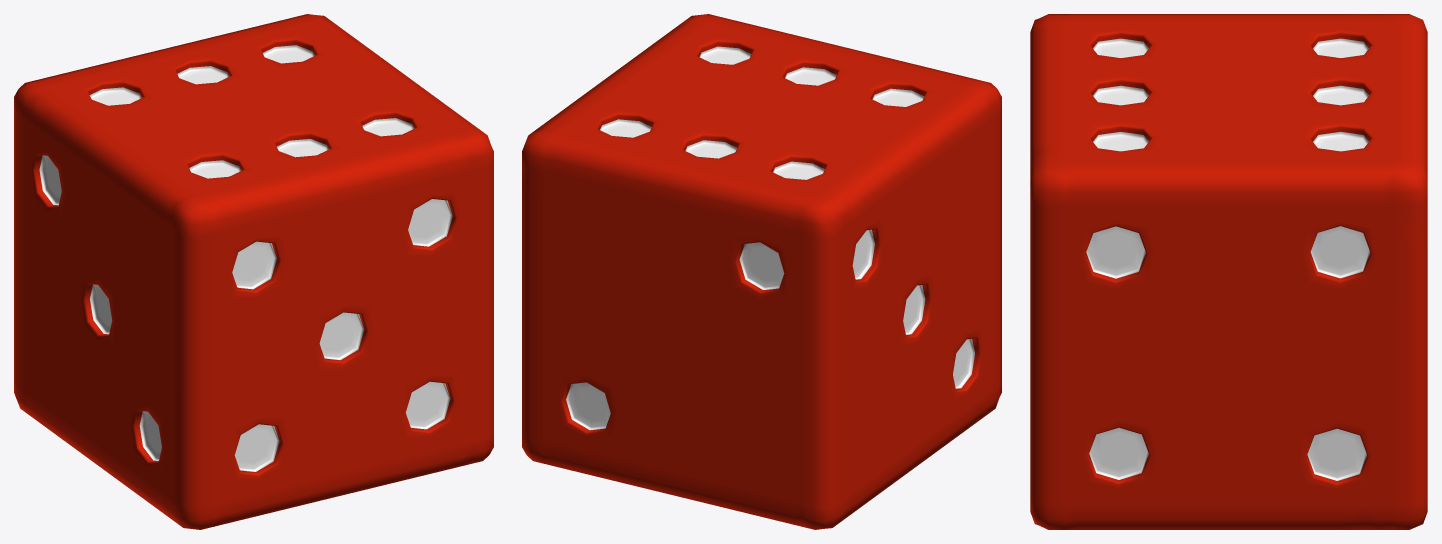
Rendered from dice_2.fbx.
3 views of the same model, side by side, from view 1: azimuth 30°, elevation 25°; view 2: azimuth 150°, elevation 25°; view 3: azimuth 270°, elevation 25° (orthographic). The views are drawn at different scales.
Parts seen in each view (by area): view 1: Dice; view 2: Dice; view 3: Dice.
Part boxes in pixels (x1,y1,x2,y2): Dice: (14, 14, 493, 529); Dice: (522, 14, 1001, 529); Dice: (1030, 14, 1427, 529).
Bounding box in the file's own units: 10 × 10 × 10.
